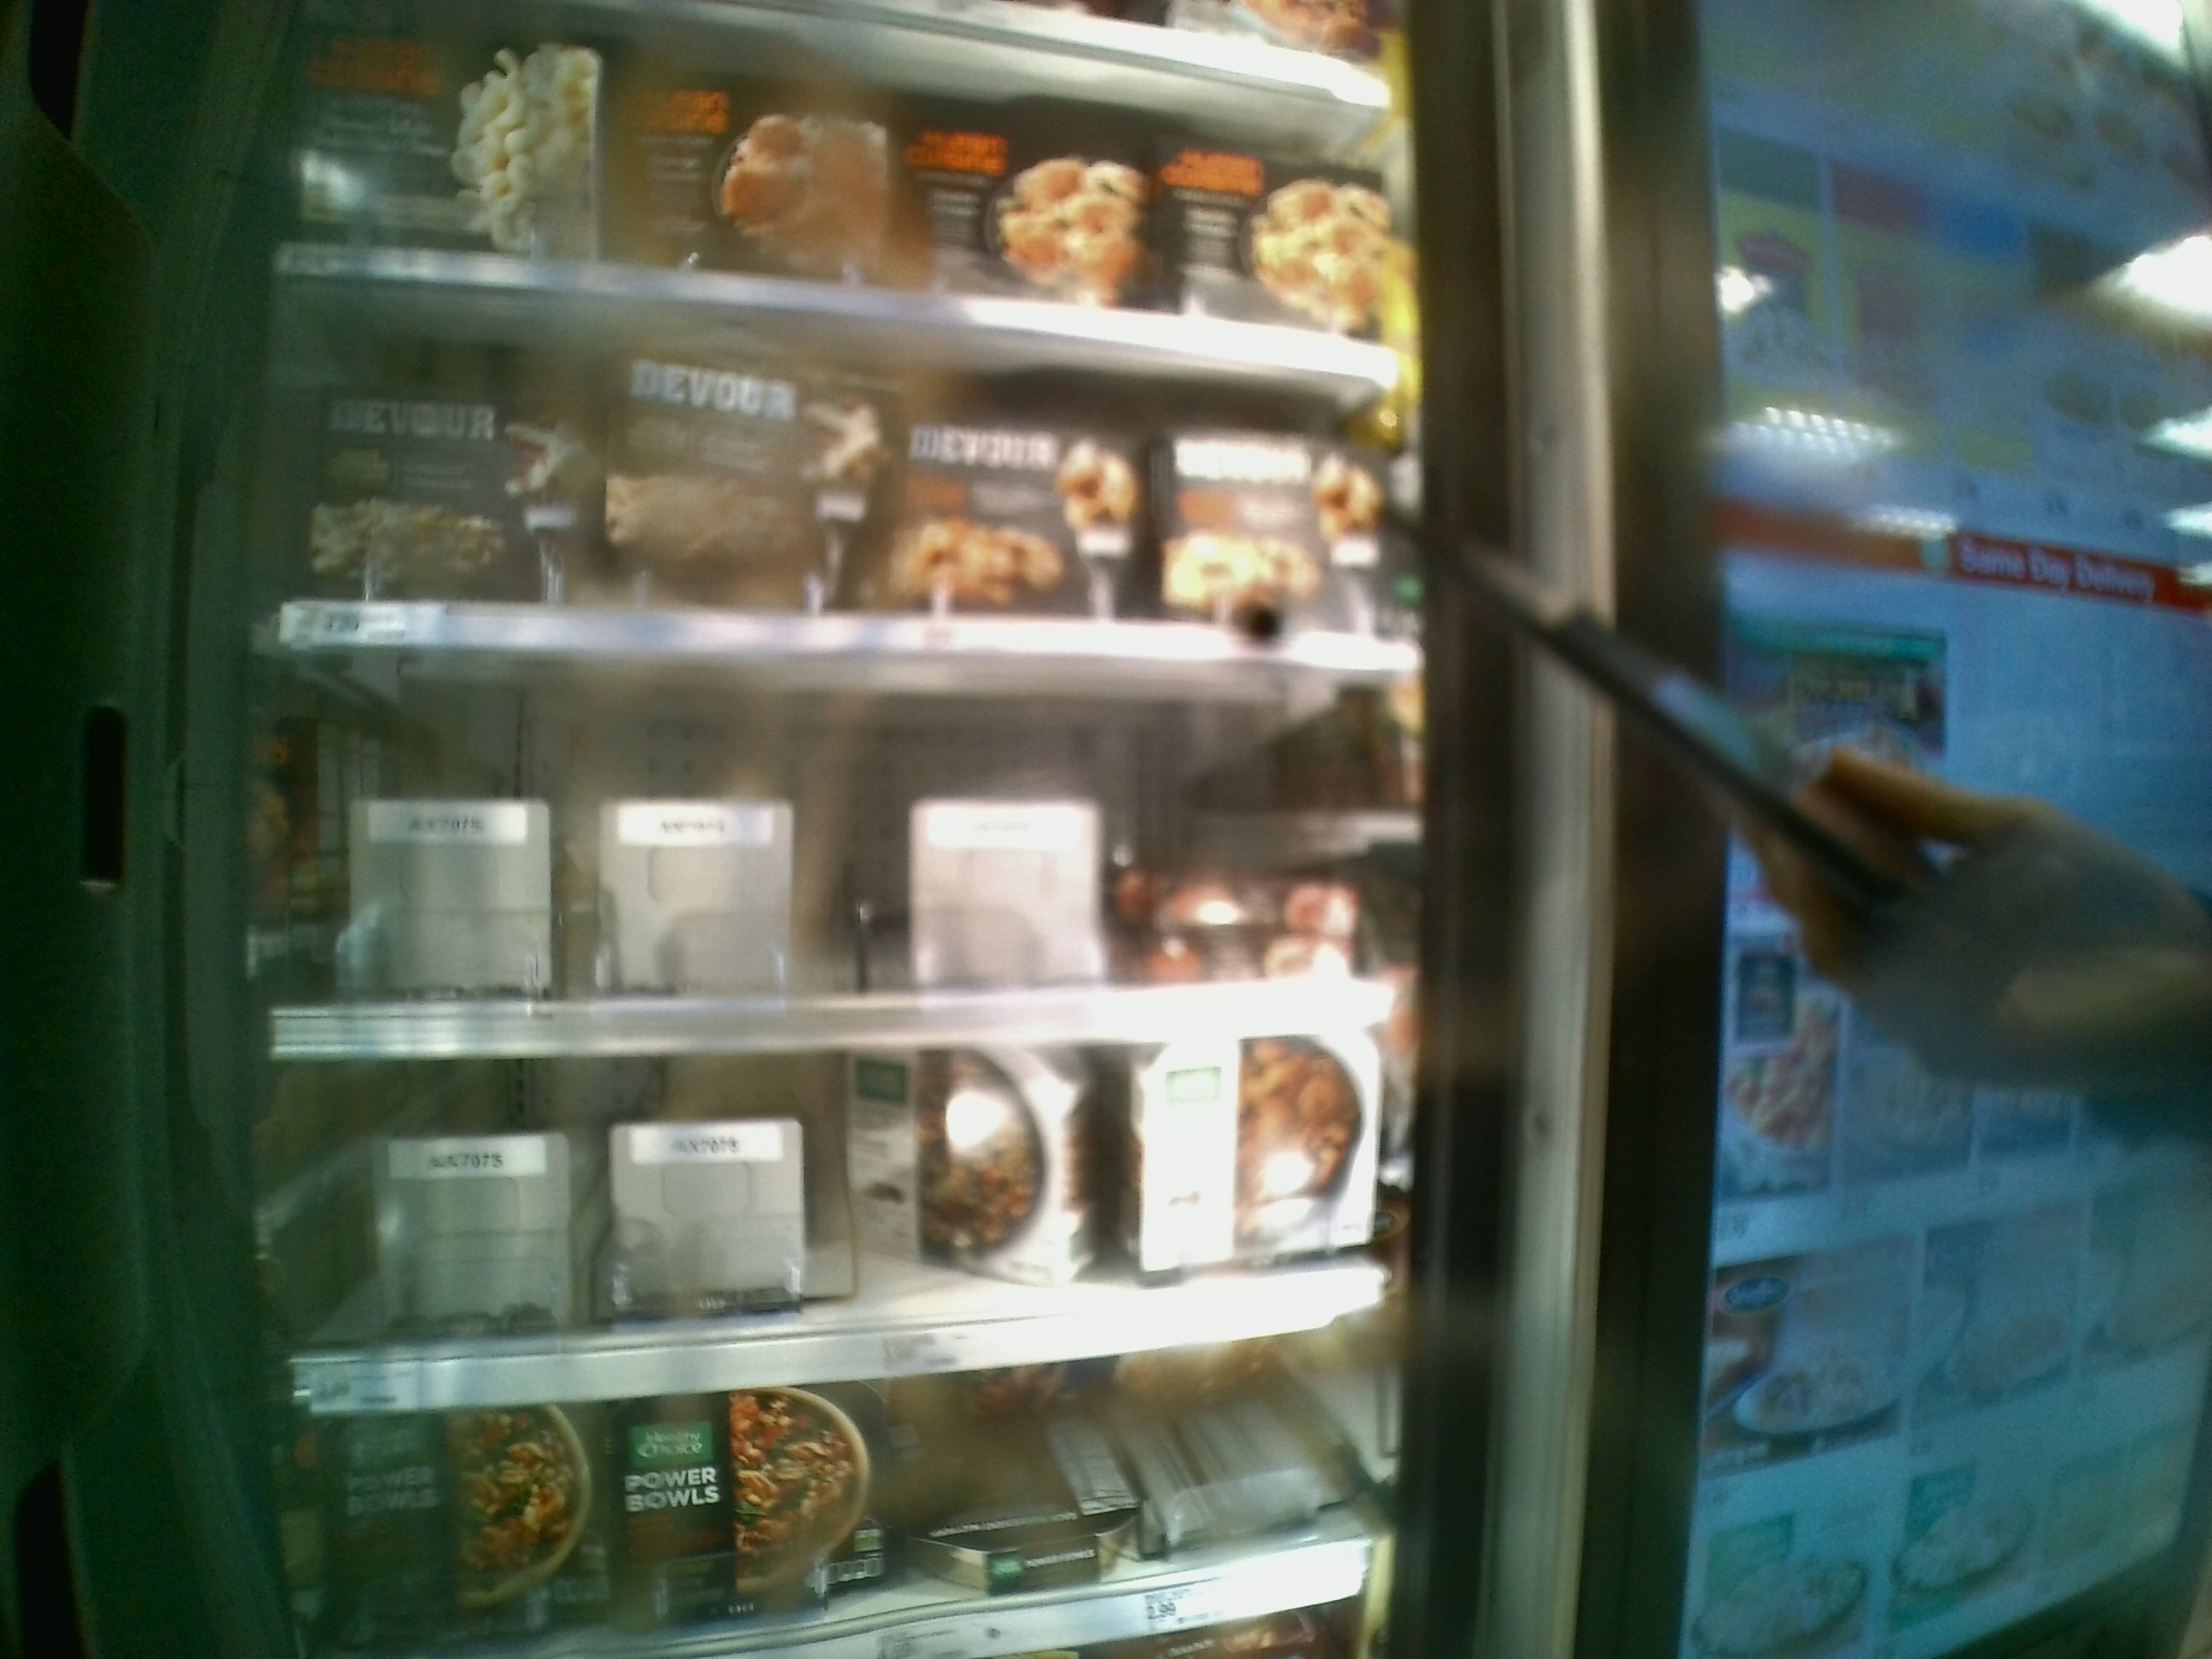shelf: (270, 638, 1411, 1049), (268, 270, 1420, 657), (275, 1028, 1406, 1405)
